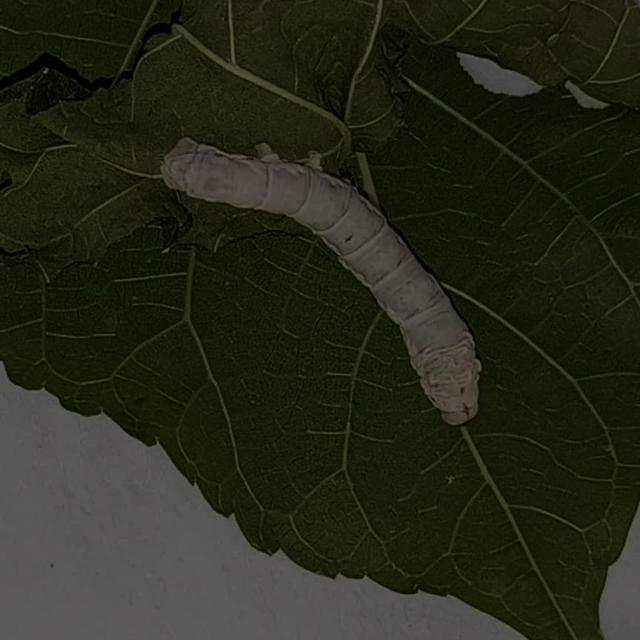Healthy: (152, 128, 501, 437)
